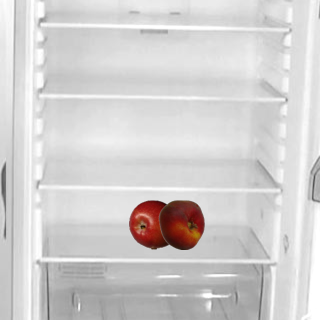Apple Braeburn: (128, 199, 178, 249)
Nectarine Flat: (156, 199, 206, 249)
